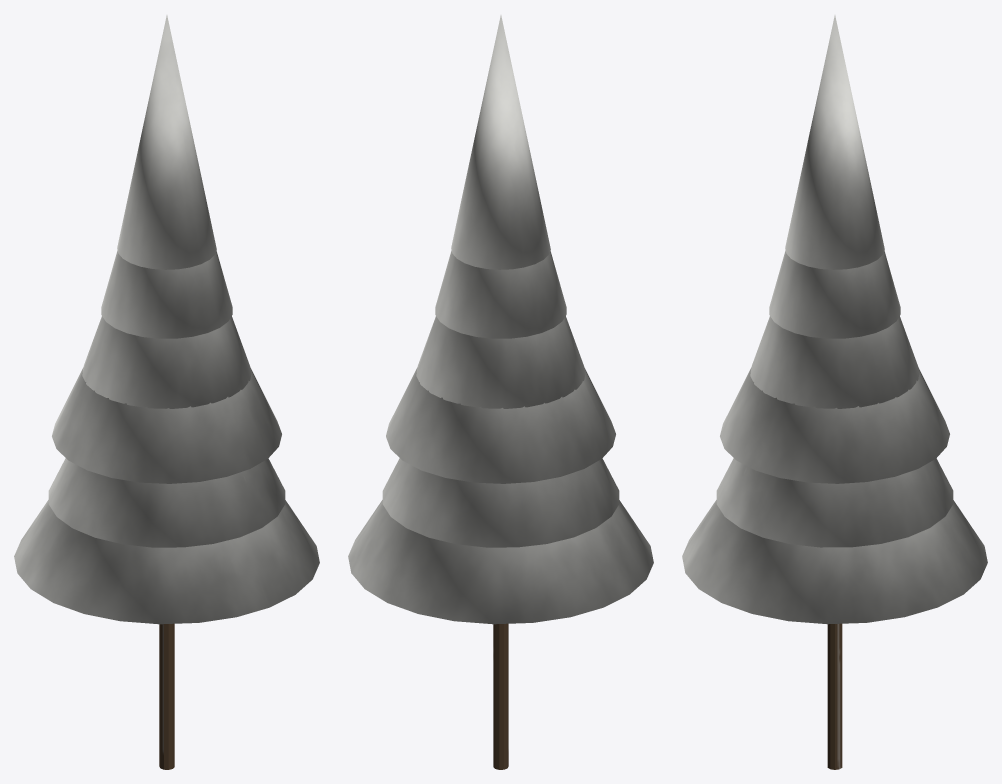
The model's file is smrk_les_v0.glb.
3 views of the same model, side by side, from view 1: azimuth 30°, elevation 25°; view 2: azimuth 150°, elevation 25°; view 3: azimuth 270°, elevation 25° (orthographic).
Visible parts, largest first — view 1: dum; view 2: dum; view 3: dum.
Part boxes in pixels (x1,y1,x2,y2): dum: (14,15,319,769); dum: (348,15,653,769); dum: (682,15,987,769).
Bounding box in the file's own units: 6.4 × 17.4 × 6.4.
1 material, 1 textured.
